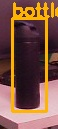bottle: (12, 18, 46, 111)
